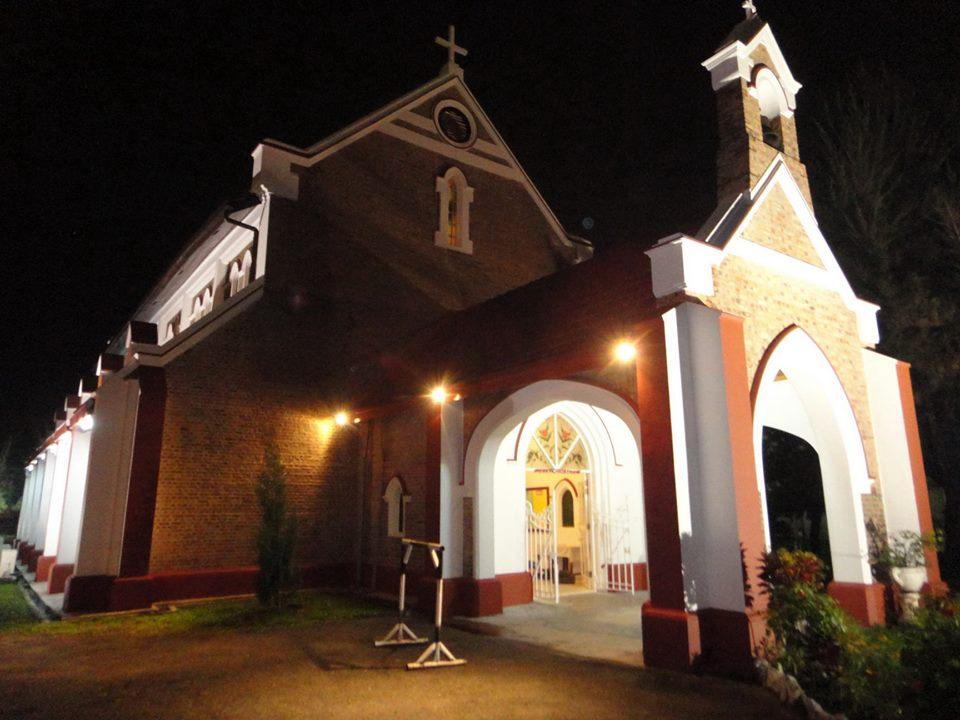Church: (31, 12, 931, 625)
